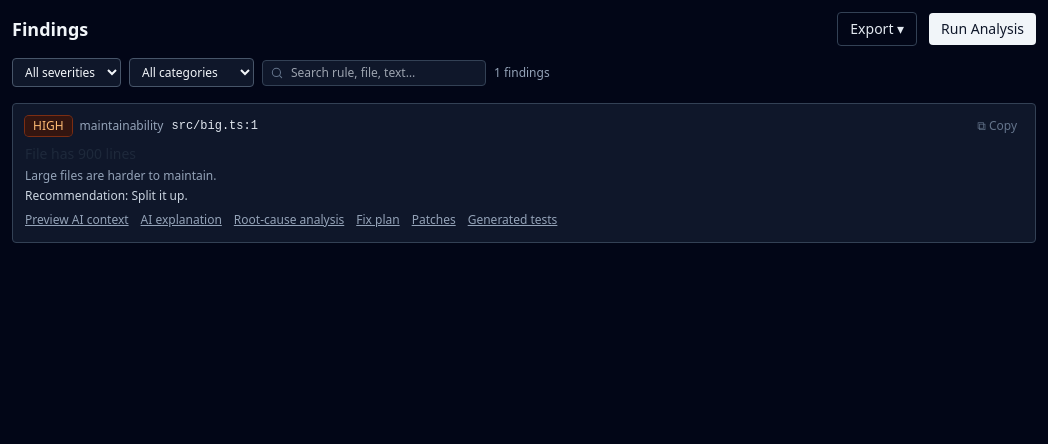
Test: FindingsPage › previews the AI context bundle for a finding, then hides it again
This screenshot has width=1048, height=444.
Expected: the text "src/big.ts:1" is shown, top-left (172, 118), bottom-right (258, 134)
Click the button "Preview AI context" at (77, 220), box top-left (25, 212), bottom-right (129, 228)
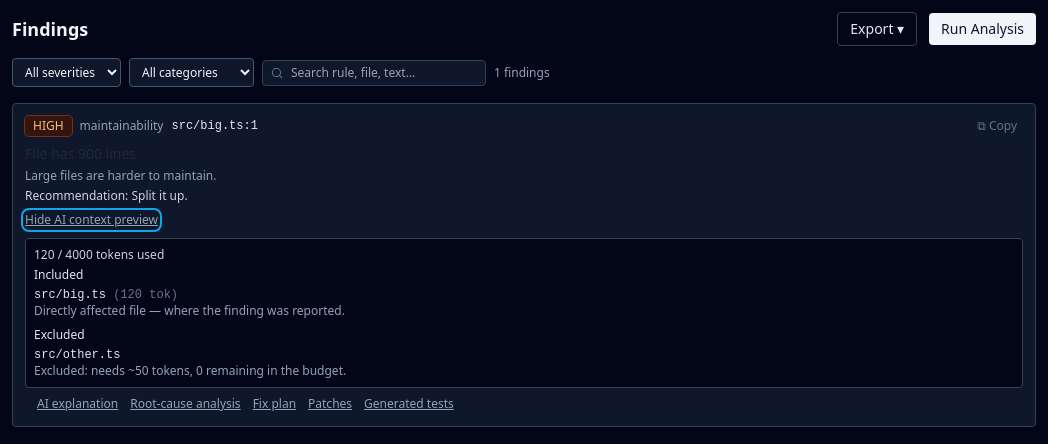
Now the text "120 / 4000 tokens used" is shown, box top-left (34, 246), bottom-right (164, 263)
Now the text "Excluded: needs ~50 tokens, 0 remaining in the budget." is shown, box top-left (34, 362), bottom-right (346, 379)
Click the button "Hide AI context preview" at (92, 220), box top-left (25, 212), bottom-right (158, 228)
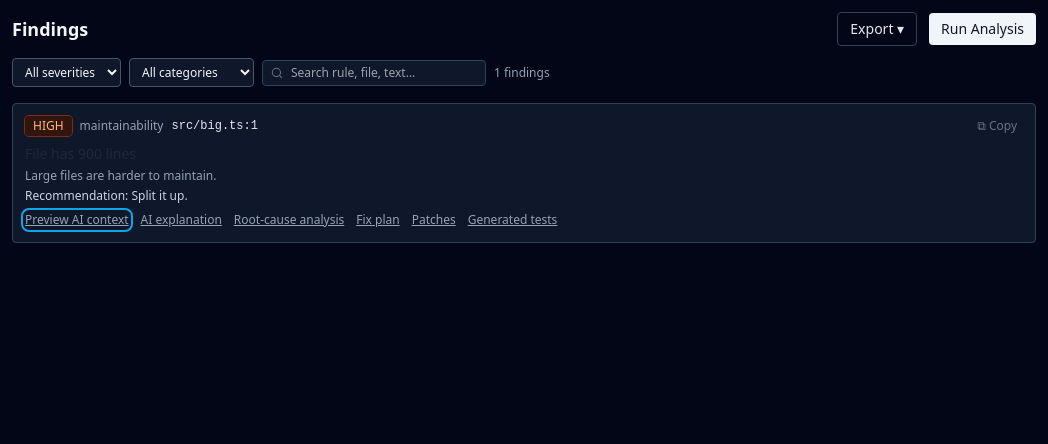
Now the text "120 / 4000 tokens used" is gone
